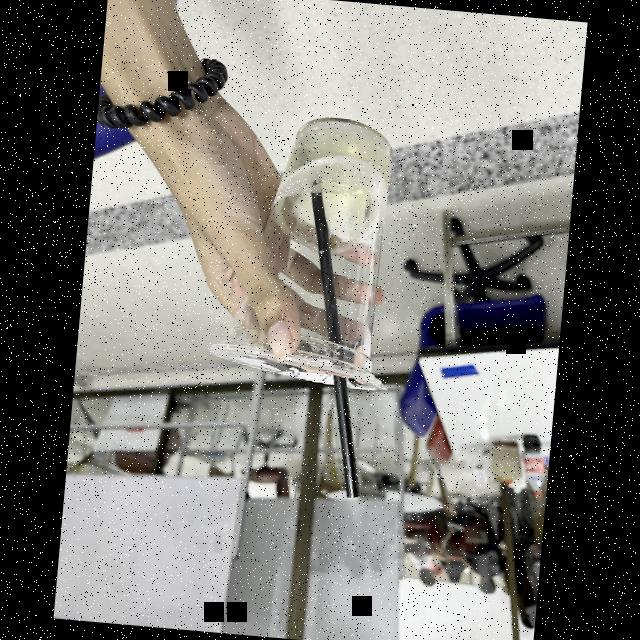plastic_cup: (204, 92, 438, 410)
straw: (275, 178, 387, 508)
